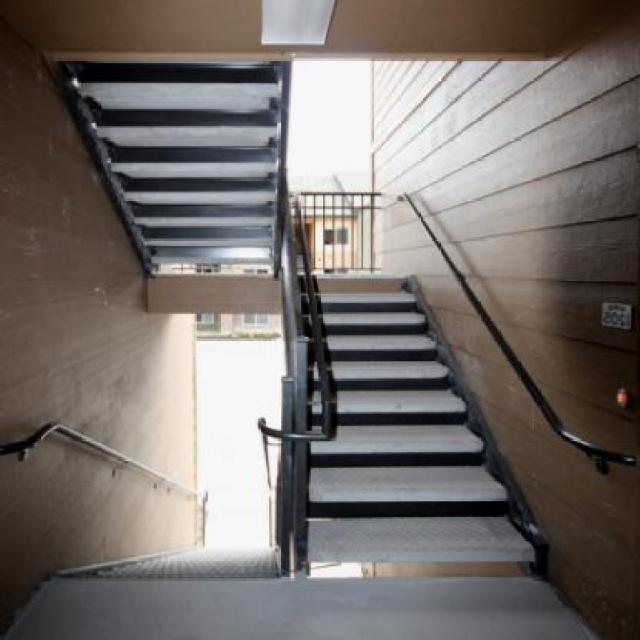stair: (236, 159, 578, 601)
